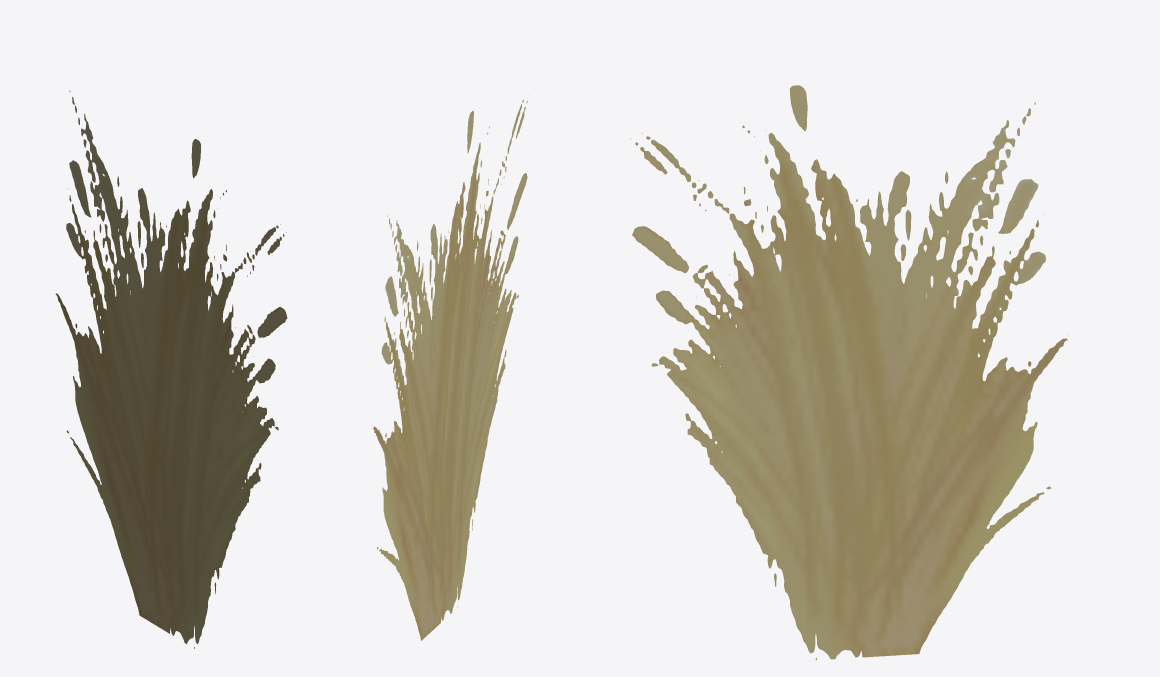
Rendered from grass2_005.fbx.
3 views of the same model, side by side, from view 1: azimuth 30°, elevation 25°; view 2: azimuth 150°, elevation 25°; view 3: azimuth 270°, elevation 25° (orthographic). The views are drawn at different scales.
Visible parts, largest first — view 1: grass2.005; view 2: grass2.005; view 3: grass2.005.
Boxes of the visible parts, left/top/right/bottom form: grass2.005: left=55, top=90, right=287, bottom=648; grass2.005: left=372, top=95, right=529, bottom=640; grass2.005: left=631, top=85, right=1068, bottom=660.
Size of the model in its own units: 16.93 by 208 by 170.
